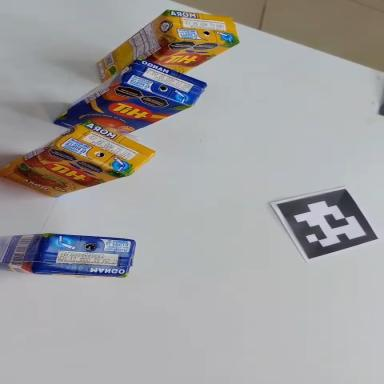HIT-MANGO: (44, 36, 213, 160), (0, 229, 136, 279)
HIT-MORA: (0, 104, 159, 210), (93, 1, 242, 81)
cara_F: (49, 61, 190, 159), (0, 129, 129, 223), (145, 15, 240, 87)
